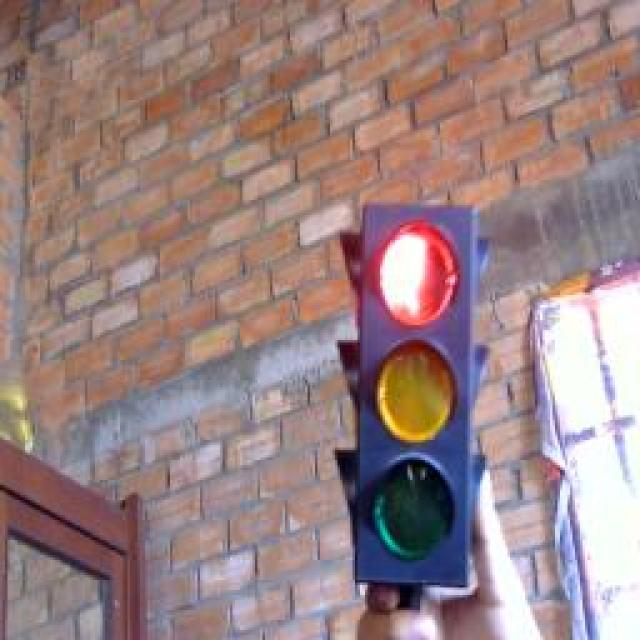-: (368, 209, 473, 331)
